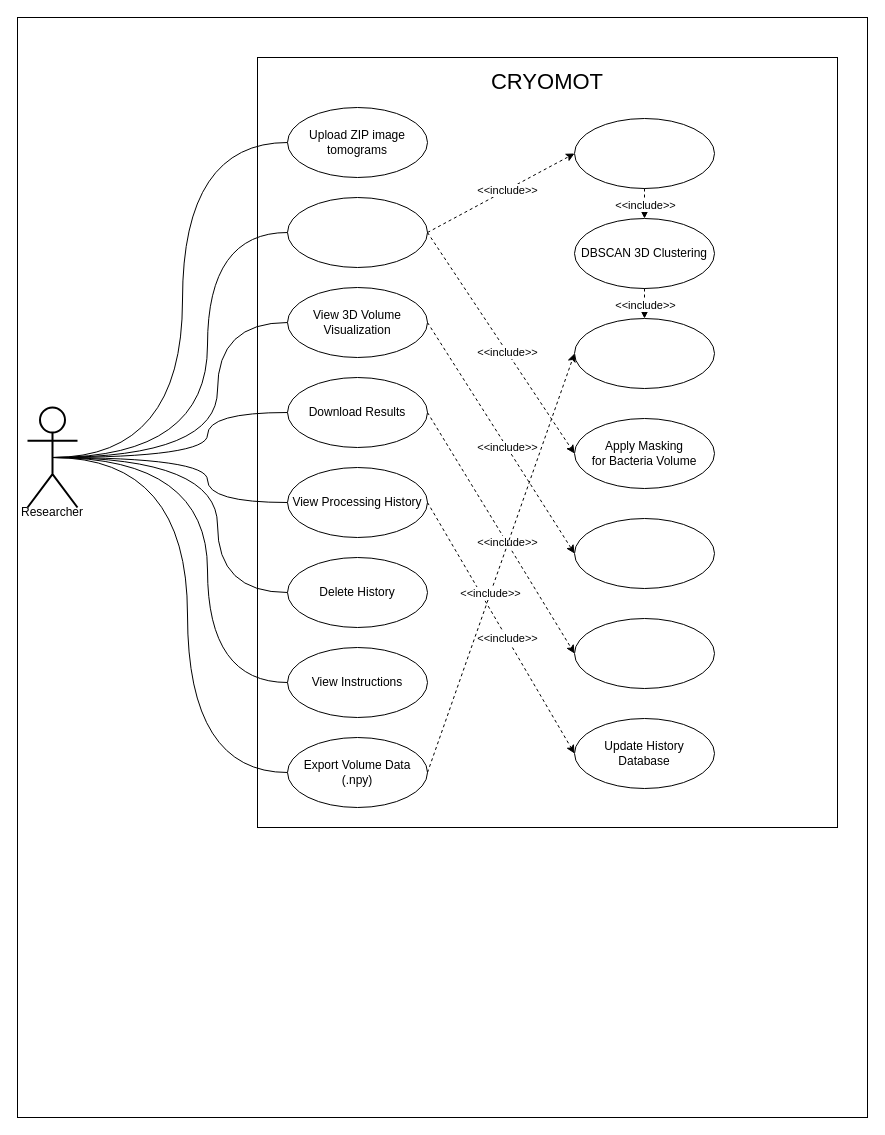
Image size: 885x1135. Some labels were removed from this diagram. Here are the shapes that lost their labels. From the top down, the centre of each, then its label:
At point 644,153: "YOLO Object Detection".
At point 357,232: "Process Images".
At point 644,353: "Generate NumPy Volume".
At point 52,457: "Actor".
At point 644,553: "Render with VTK.js".
At point 644,653: "Save to File System".
